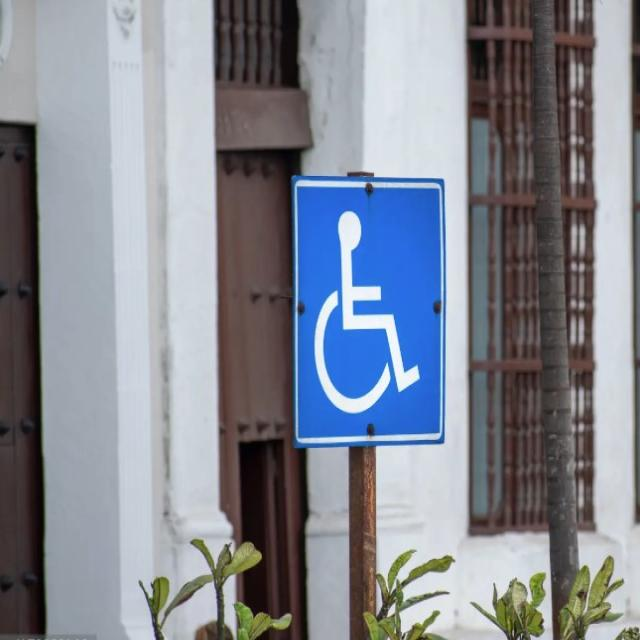symbol_of_access: (288, 172, 449, 452)
